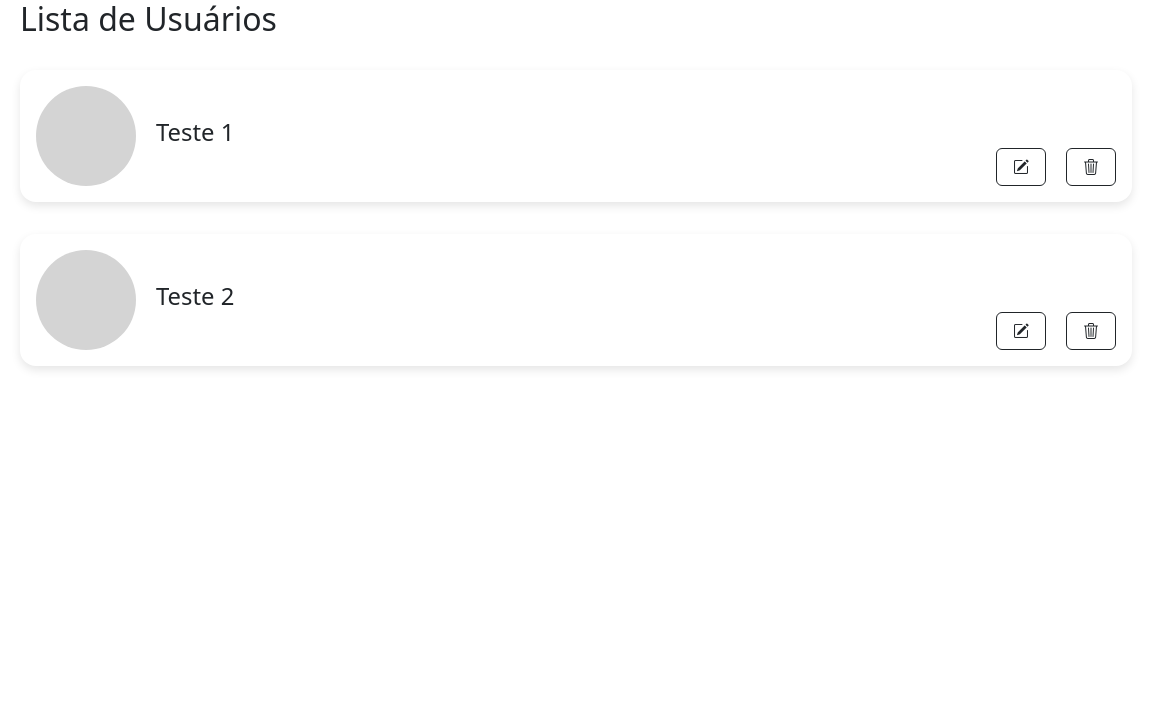
Scenario: UserList Component › should open UserEdit modal when edit button is clicked
Click the 1st button with test id "edit-button". click: (1021,167)
box: left=996, top=148, right=1046, bottom=186
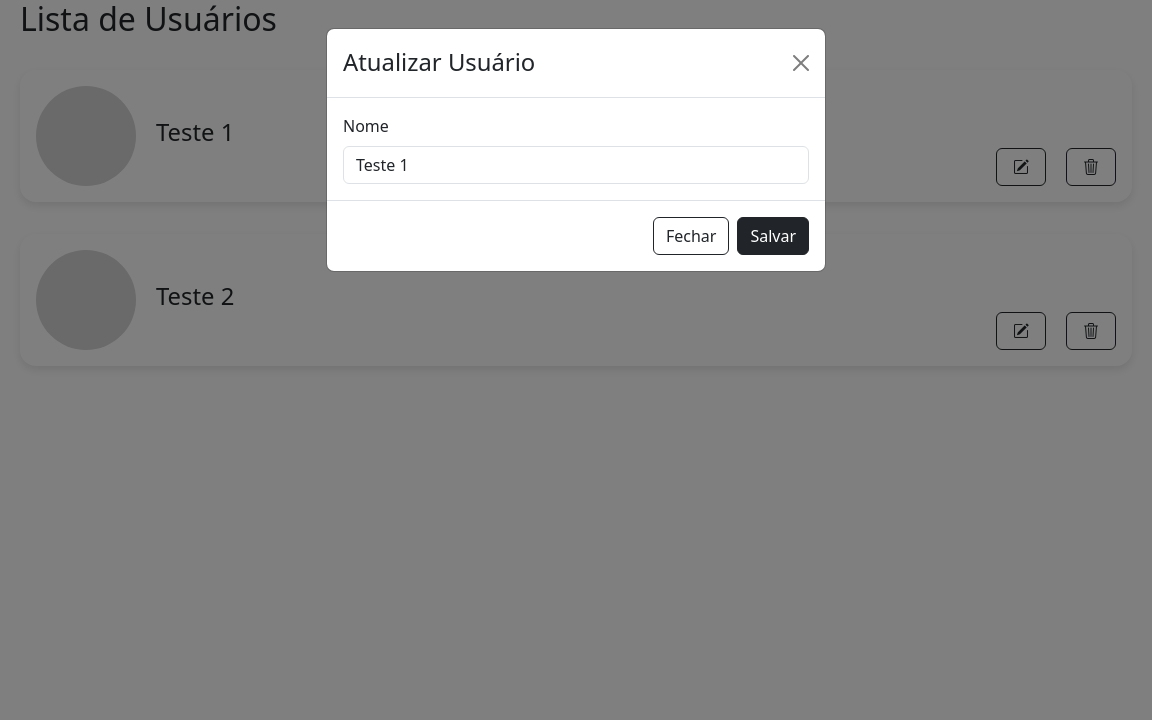
Now the field showing "Teste 1" is shown, box left=343, top=146, right=809, bottom=184
